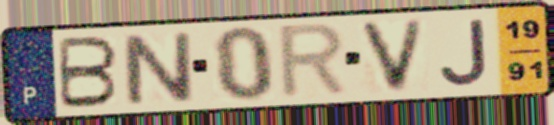0: (206, 24, 279, 104)
B: (56, 35, 121, 111)
J: (437, 17, 492, 89)
N: (118, 30, 198, 108)
R: (276, 20, 351, 102)
V: (355, 16, 429, 96)
